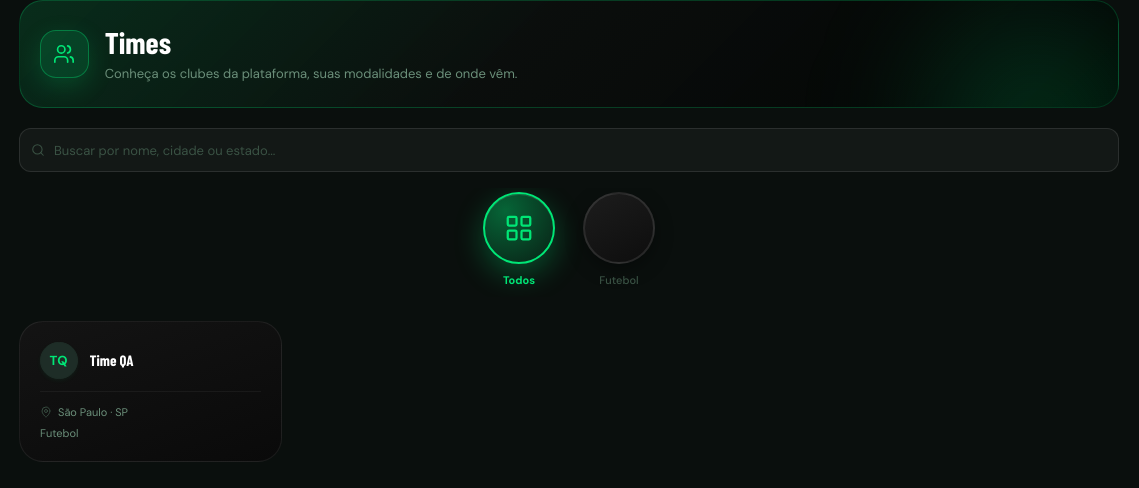
Test case: /times: listagem, busca e filtro › limpa a busca ao clicar no botao de limpar
expect the heading "Time QA" is shown: met, box [90, 351, 134, 369]
Type "zzz" into the field with placeholder "Buscar por nome, cidade ou estado..." at (569, 150), box [19, 128, 1119, 172]
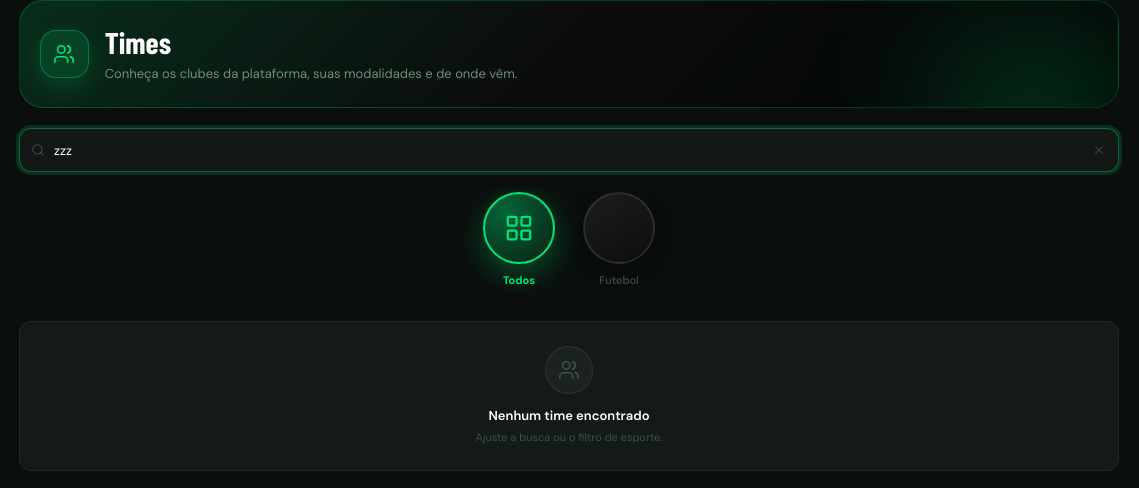
expect the link "Time QA" is gone: met
Click the button named "Limpar busca" at (1099, 150), box [1087, 138, 1111, 162]
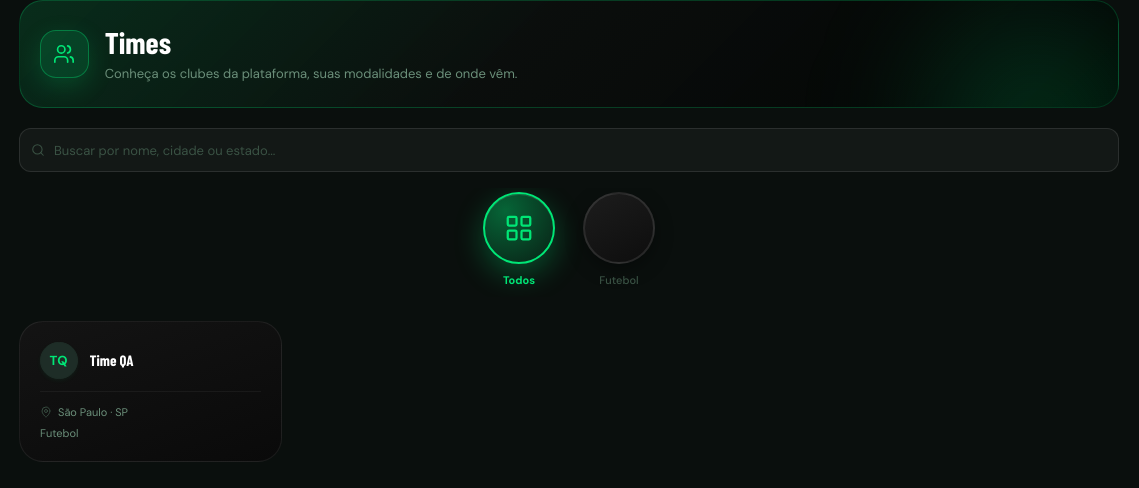
expect the heading "Time QA" is shown: met, box [90, 351, 134, 369]
